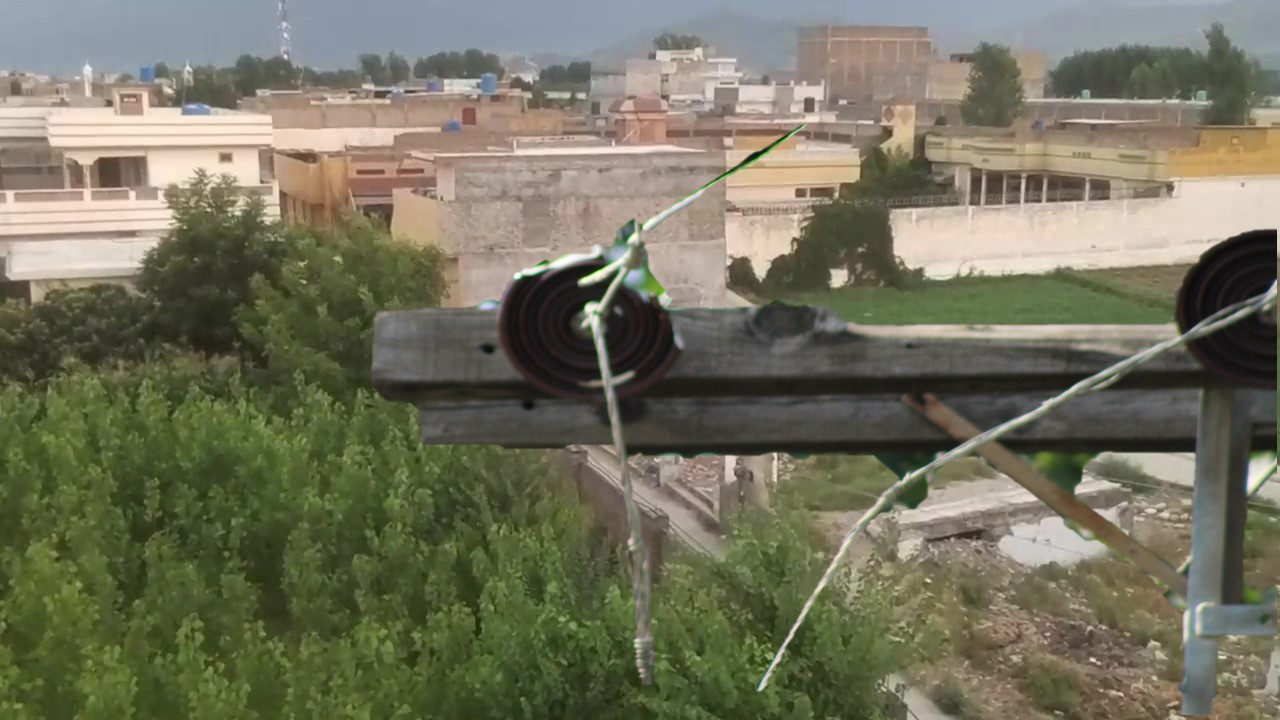defect_disc: (491, 225, 697, 418)
